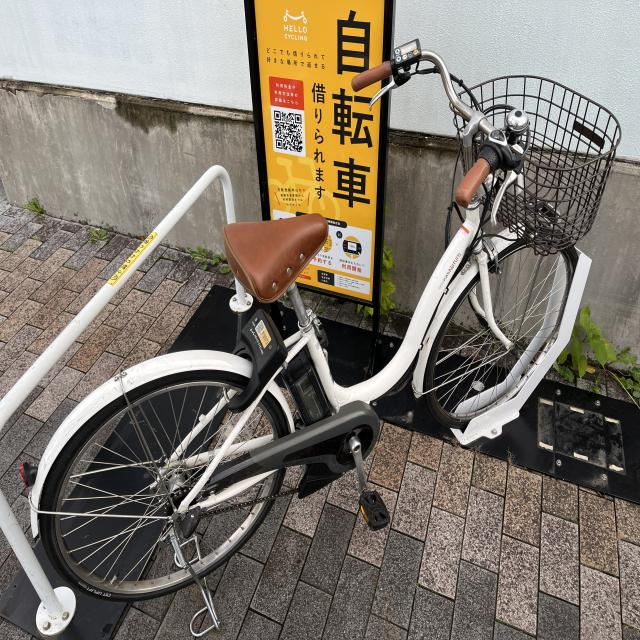basket: (16, 382, 192, 569)
battery: (306, 213, 361, 291)
